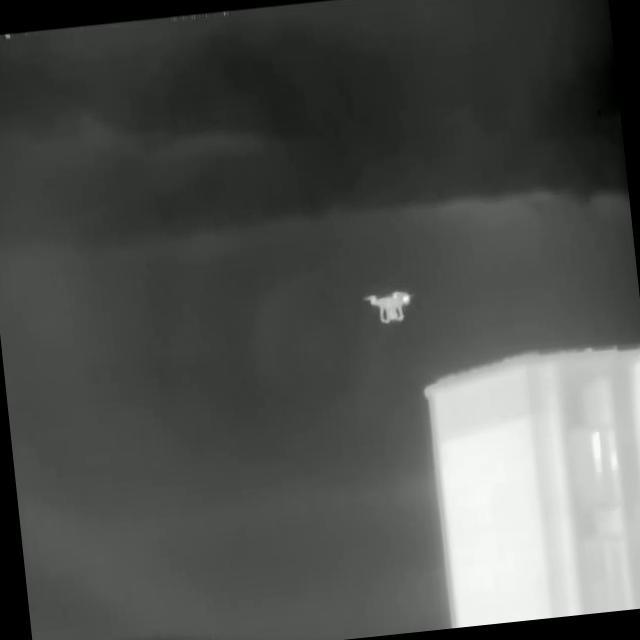DRONE: (363, 289, 413, 326)
